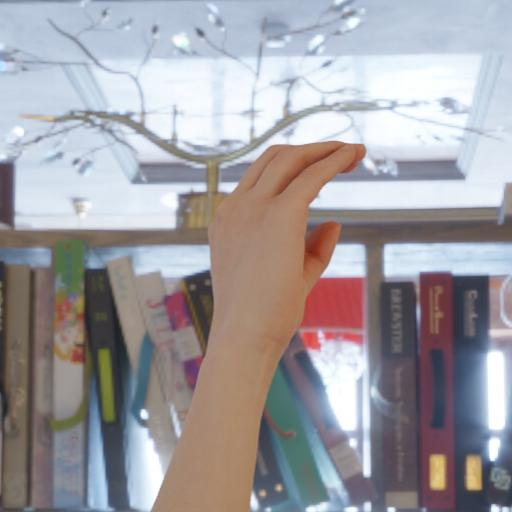C: (206, 133, 370, 348)
